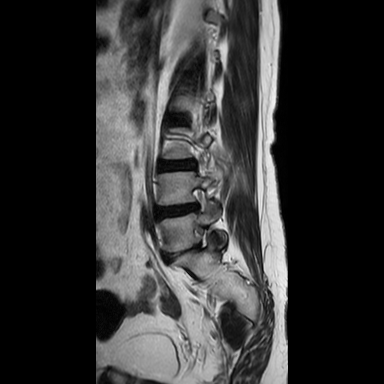RFS0: (186, 182, 216, 221)
